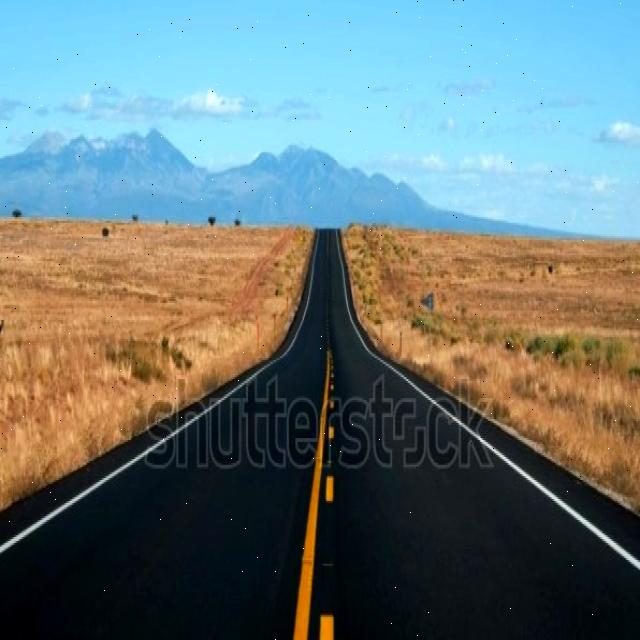lane: (293, 349, 330, 638), (319, 613, 333, 638)
road: (0, 229, 639, 636)
